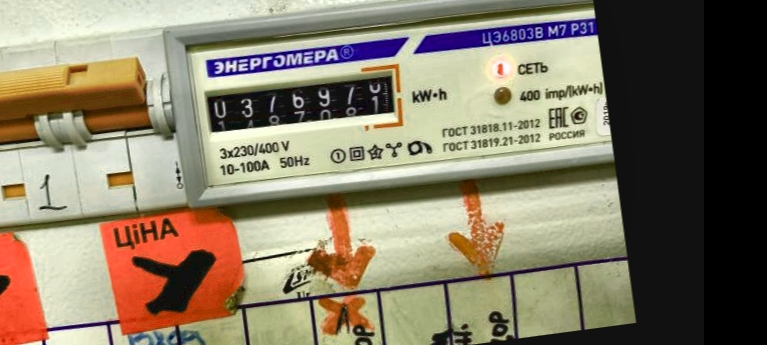0: (211, 96, 228, 120)
1: (369, 94, 382, 115)
3: (239, 96, 256, 119)
6: (289, 86, 307, 110)
7: (264, 90, 282, 116), (341, 82, 359, 107)
9: (315, 84, 332, 108)
screen: (194, 53, 412, 155)
